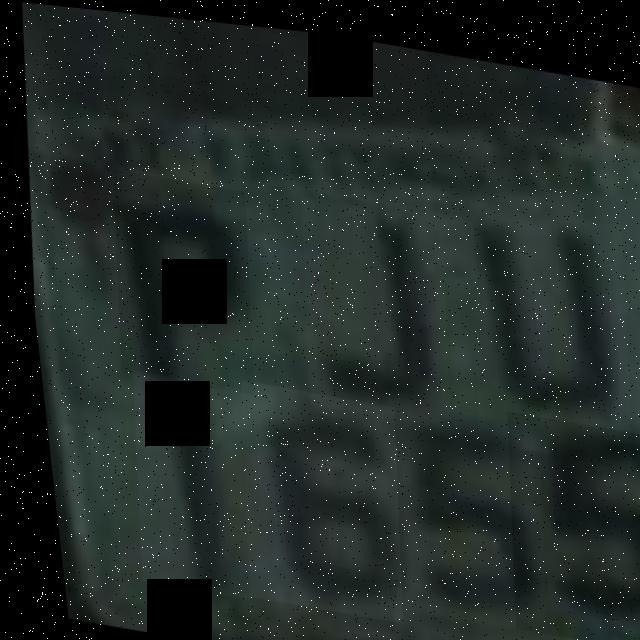1: (109, 366, 251, 596)
5: (350, 399, 547, 625), (483, 400, 640, 640)
6: (217, 375, 404, 618)
J: (282, 179, 457, 421)
P: (94, 165, 259, 391)
U: (448, 189, 640, 456)
